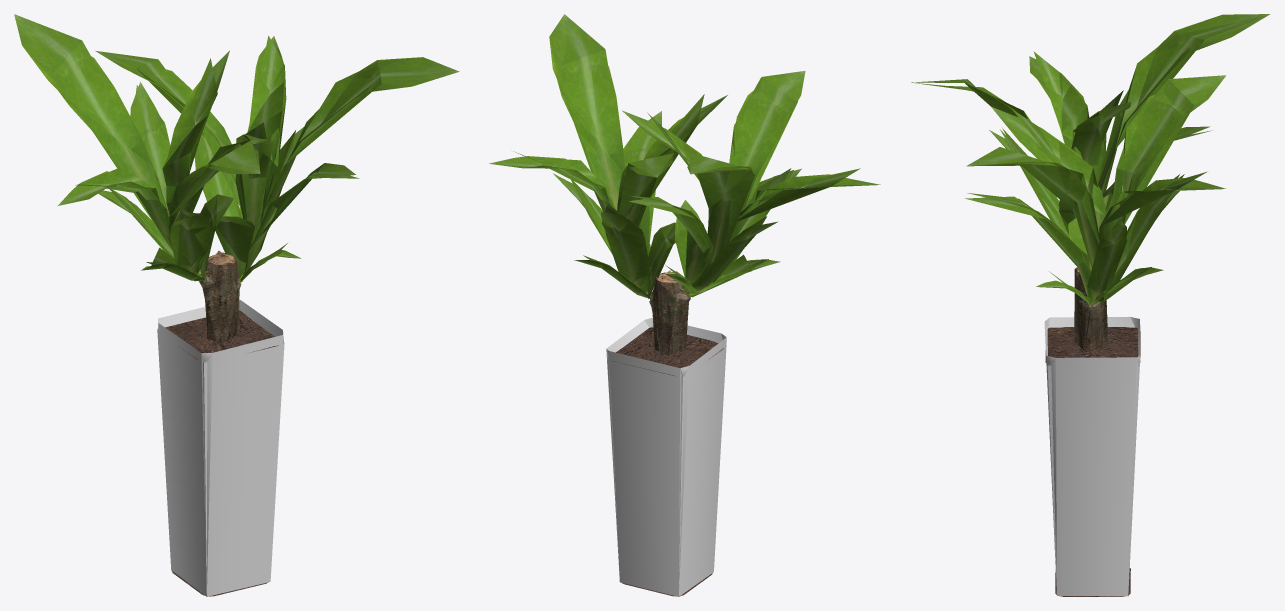
The model's file is indoor_plant.FBX.
The picture shows the model from 3 angles, left to right: view 1: azimuth 30°, elevation 25°; view 2: azimuth 150°, elevation 25°; view 3: azimuth 270°, elevation 25°; orthographic projection. The views are drawn at different scales.
Visible parts, largest first — view 1: indoor_plant, indoor_plant.001; view 2: indoor_plant, indoor_plant.001; view 3: indoor_plant, indoor_plant.001.
Boxes of the visible parts, x1,y1,x2,y2 form: indoor_plant: (14,14,459,596); indoor_plant.001: (14,14,458,596); indoor_plant: (489,14,880,596); indoor_plant.001: (514,14,860,596); indoor_plant: (912,14,1269,596); indoor_plant.001: (911,14,1269,593).
Size of the model in its own units: 130 by 175 by 112.
